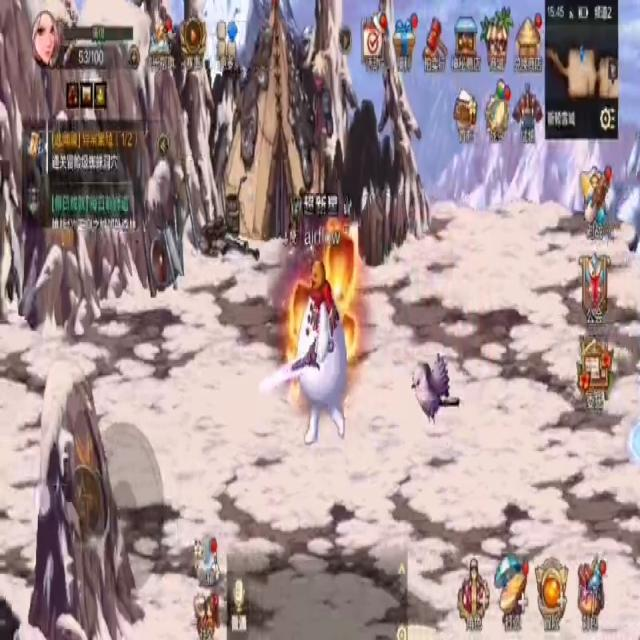player: (298, 251, 351, 444)
